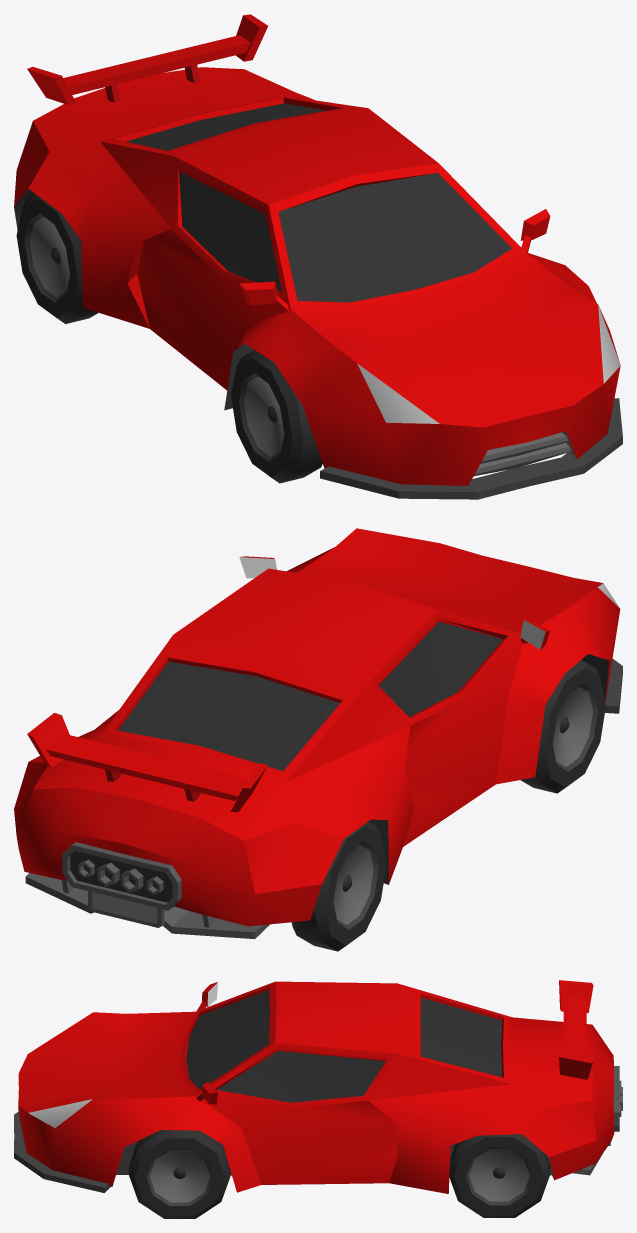
The model's file is lamb.obj.
The picture shows the model from 3 angles, top to bottom: view 1: azimuth 30°, elevation 25°; view 2: azimuth 150°, elevation 25°; view 3: azimuth 270°, elevation 25°; orthographic projection. The views are drawn at different scales.
Parts seen in each view (by area): view 1: lamb, wheels.001, wheels; view 2: lamb, wheels, wheels.001; view 3: lamb, wheels.056, wheels.057.
Part boxes in pixels (x1,y1,x2,y2): lamb: [14, 14, 622, 499]; wheels.001: [231, 350, 322, 483]; wheels: [16, 194, 98, 323]; lamb: [14, 528, 622, 938]; wheels: [291, 821, 386, 951]; wheels.001: [520, 660, 605, 793]; lamb: [14, 980, 622, 1193]; wheels.056: [128, 1130, 230, 1218]; wheels.057: [449, 1134, 550, 1217].
Size of the model in its own units: 2.07 by 1.33 by 4.62.
